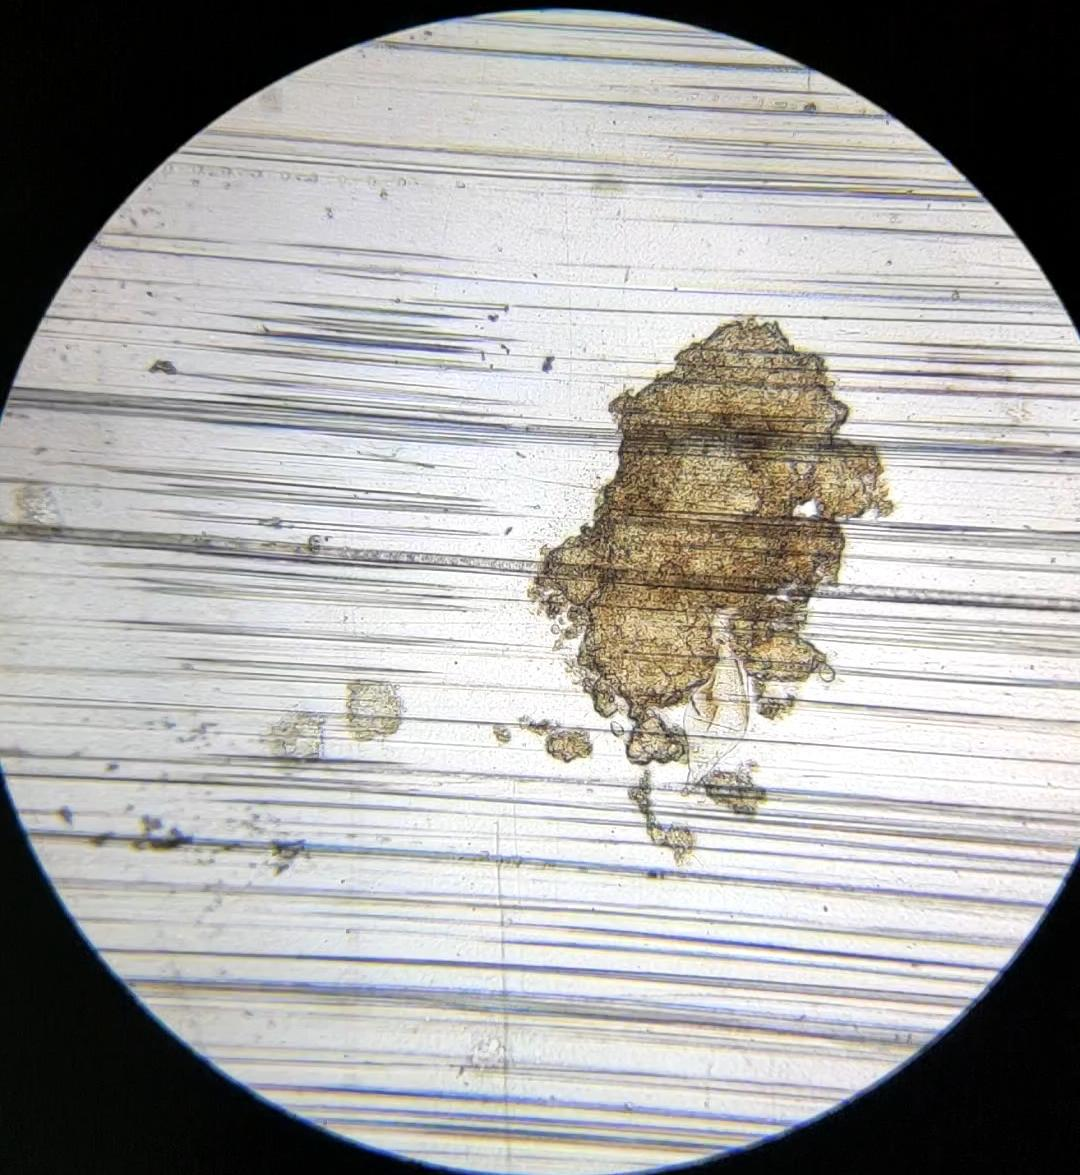Do: (680, 632, 749, 796)
